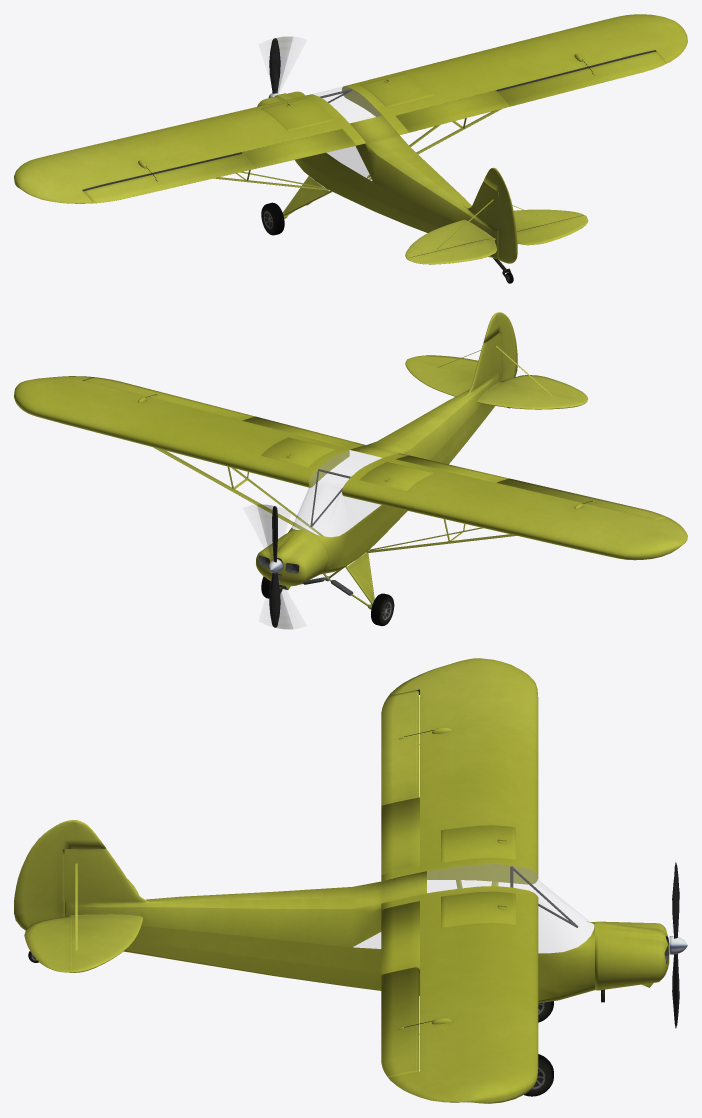
3 views of the same model, one above another, from view 1: azimuth 30°, elevation 25°; view 2: azimuth 150°, elevation 25°; view 3: azimuth 270°, elevation 25° (orthographic). The views are drawn at different scales.
Visible parts, largest first — view 1: ailes, fuselage, aileronD, aileronG, reservoirs, ailes2, profondeur, voletD, voletG, vitres, direction, trous (+5 smaller); view 2: ailes, fuselage, vitres, ailes2, capot, reservoirs, structure, profondeur, aileronD, aileronG, direction, propblur (+6 smaller); view 3: ailes, fuselage, vitres, direction, reservoirs, capot, aileronG, aileronD, ailes2, voletG, voletD, profondeur (+2 smaller).
Boxes of the visible parts, left/top/right/bottom form: ailes: left=14, top=14, right=687, bottom=203; fuselage: left=295, top=115, right=498, bottom=259; aileronD: left=497, top=51, right=666, bottom=106; aileronG: left=83, top=153, right=255, bottom=203; reservoirs: left=261, top=73, right=433, bottom=131; ailes2: left=405, top=209, right=584, bottom=258; profondeur: left=407, top=215, right=588, bottom=264; voletD: left=395, top=90, right=509, bottom=132; voletG: left=242, top=128, right=356, bottom=168; vitres: left=313, top=86, right=381, bottom=181; direction: left=483, top=167, right=517, bottom=263; trous: left=82, top=50, right=656, bottom=257; ailes: left=14, top=376, right=687, bottom=560; fuselage: left=288, top=332, right=500, bottom=574; vitres: left=292, top=450, right=381, bottom=536; ailes2: left=405, top=359, right=585, bottom=409; capot: left=256, top=530, right=328, bottom=589; reservoirs: left=261, top=437, right=433, bottom=490; structure: left=153, top=345, right=552, bottom=552; profondeur: left=407, top=355, right=588, bottom=403; aileronD: left=83, top=377, right=255, bottom=420; aileronG: left=497, top=478, right=666, bottom=520; direction: left=483, top=312, right=517, bottom=381; propblur: left=257, top=505, right=292, bottom=628; ailes: left=381, top=658, right=538, bottom=1103; fuselage: left=64, top=848, right=594, bottom=1003; vitres: left=354, top=864, right=594, bottom=953; direction: left=14, top=820, right=105, bottom=930; reservoirs: left=441, top=825, right=515, bottom=927; capot: left=595, top=921, right=669, bottom=990; aileronG: left=381, top=690, right=419, bottom=805; aileronD: left=381, top=967, right=419, bottom=1077; ailes2: left=72, top=879, right=143, bottom=972; voletG: left=381, top=797, right=419, bottom=874; voletD: left=381, top=901, right=419, bottom=974; profondeur: left=24, top=915, right=72, bottom=972.
Size of the model in its own units: 10.71 by 2.7 by 6.92.
Materials: 3 (2 with a texture image).
